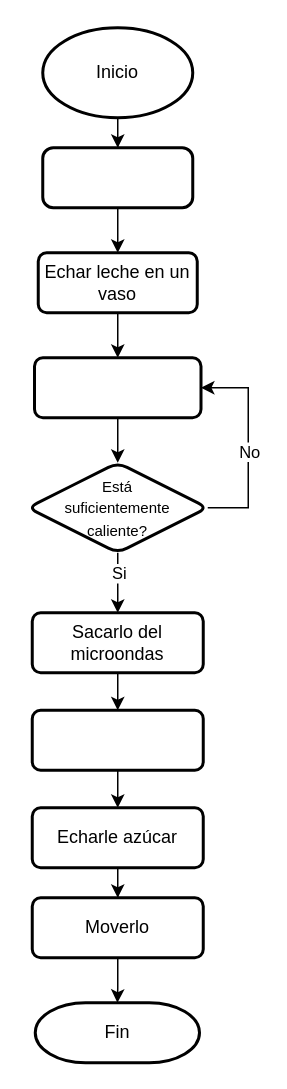
This 287x1089 diagram has some shape labels left out. Each missing label, with the centre of its shape:
Coger un vaso: point (117, 177)
Echar el cacao: point (117, 739)
Meterlo en el microondas: point (117, 387)
